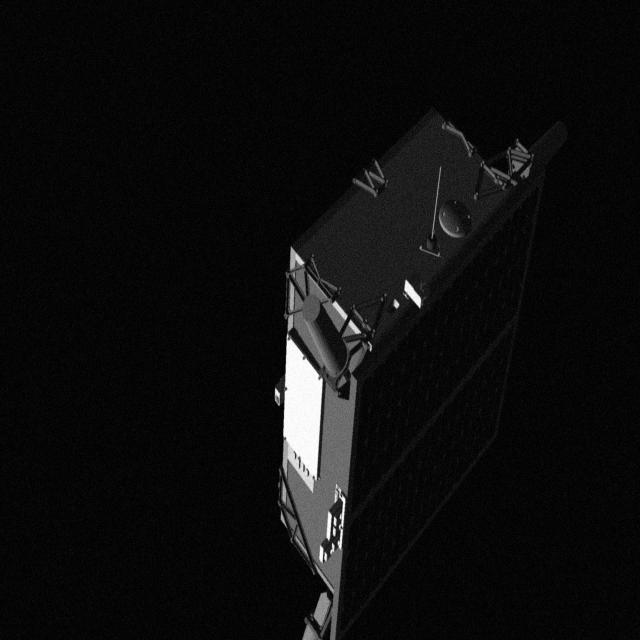medium_debris: (264, 64, 574, 640)
